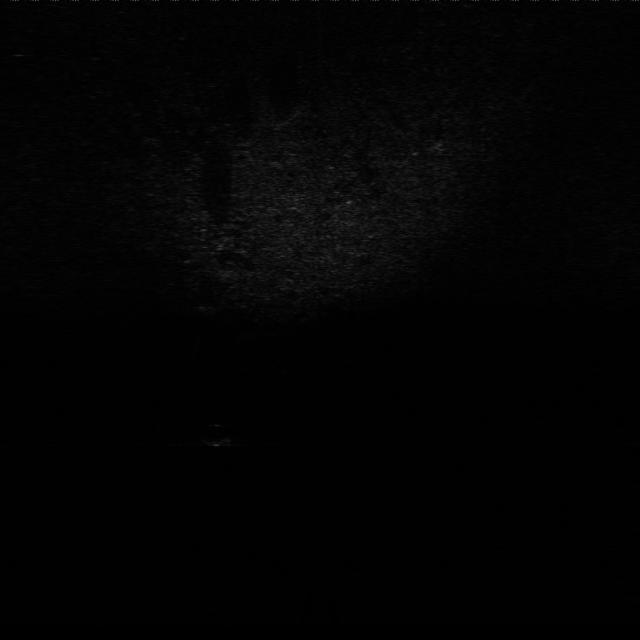ball: (200, 422, 240, 450)
